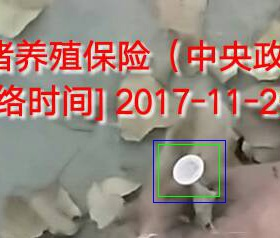text: (158, 144, 219, 196)
